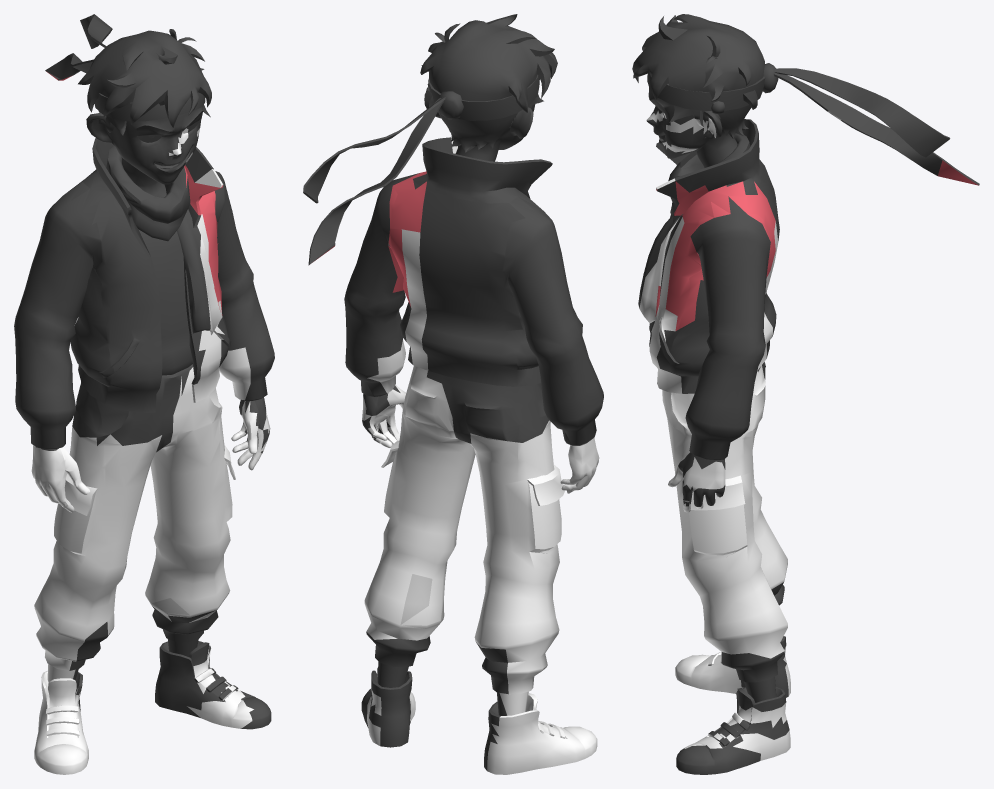
Rendered from Crew.glb.
3 views of the same model, side by side, from view 1: azimuth 30°, elevation 25°; view 2: azimuth 150°, elevation 25°; view 3: azimuth 270°, elevation 25° (orthographic).
Parts seen in each view (by area): view 1: Body, LegR, LegL, ArmL, Head, ArmR; view 2: Body, LegL, Head, LegR, ArmL, ArmR; view 3: Head, LegR, ArmR, Body, LegL.
Part boxes in pixels (x1,y1,x2,y2): Body: [68, 177, 228, 444]; LegR: [145, 400, 271, 729]; LegL: [34, 423, 171, 774]; ArmL: [14, 182, 113, 507]; Head: [45, 14, 223, 211]; ArmR: [211, 171, 274, 458]; Body: [390, 171, 545, 441]; LegL: [454, 421, 597, 774]; Head: [303, 14, 557, 265]; LegR: [361, 384, 475, 747]; ArmL: [504, 197, 603, 490]; ArmR: [344, 173, 419, 442]; Head: [632, 14, 979, 196]; LegR: [666, 416, 790, 774]; ArmR: [665, 196, 770, 507]; Body: [638, 153, 779, 432]; LegL: [675, 452, 790, 697].
Bounding box in the file's own units: 0.6489 × 1.75 × 0.7908.
